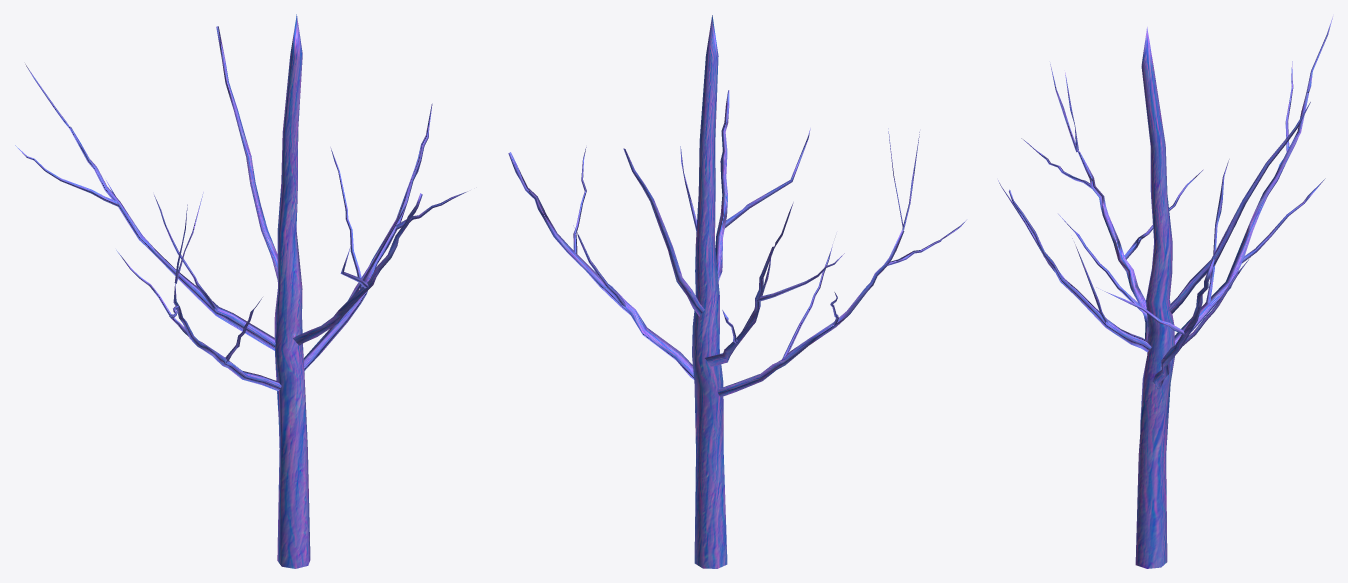
File: Presid_Tree_trunkB2.FBX
3 renders of one model, left to right at view 1: azimuth 30°, elevation 25°; view 2: azimuth 150°, elevation 25°; view 3: azimuth 270°, elevation 25°, orthographic. The views are drawn at different scales.
Parts seen in each view (by area): view 1: Presid_Tree_trunkB2; view 2: Presid_Tree_trunkB2; view 3: Presid_Tree_trunkB2.
Boxes of the visible parts, x1,y1,x2,y2 form: Presid_Tree_trunkB2: (15,14,467,568); Presid_Tree_trunkB2: (508,15,966,568); Presid_Tree_trunkB2: (998,17,1332,568).
Bounding box in the file's own units: 3.6 × 4.98 × 2.84.
